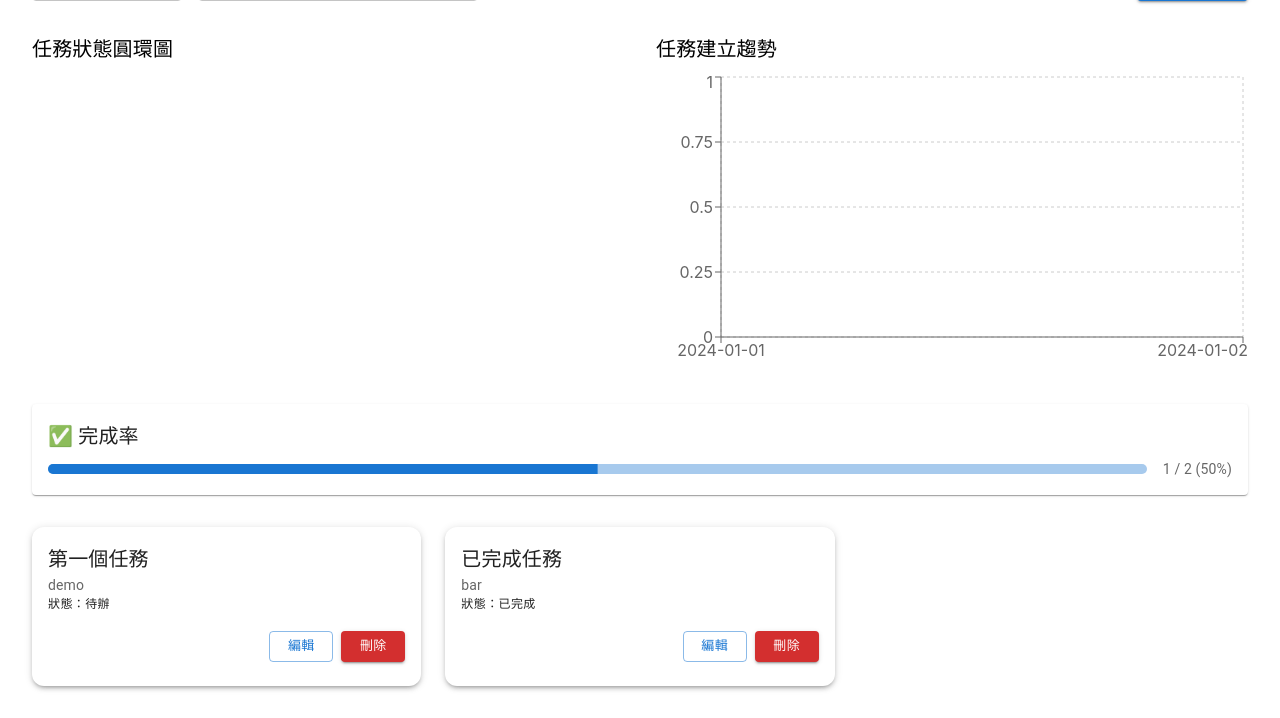
it: 刪除任務成功：卡片移除＋success toast
The image size is (1280, 718).
(page scrolled)
Expected: the heading "第一個任務" is shown, [48,547,149,571]
Click the button "刪除" below "待辦" at (373,646), box [341,631,405,662]
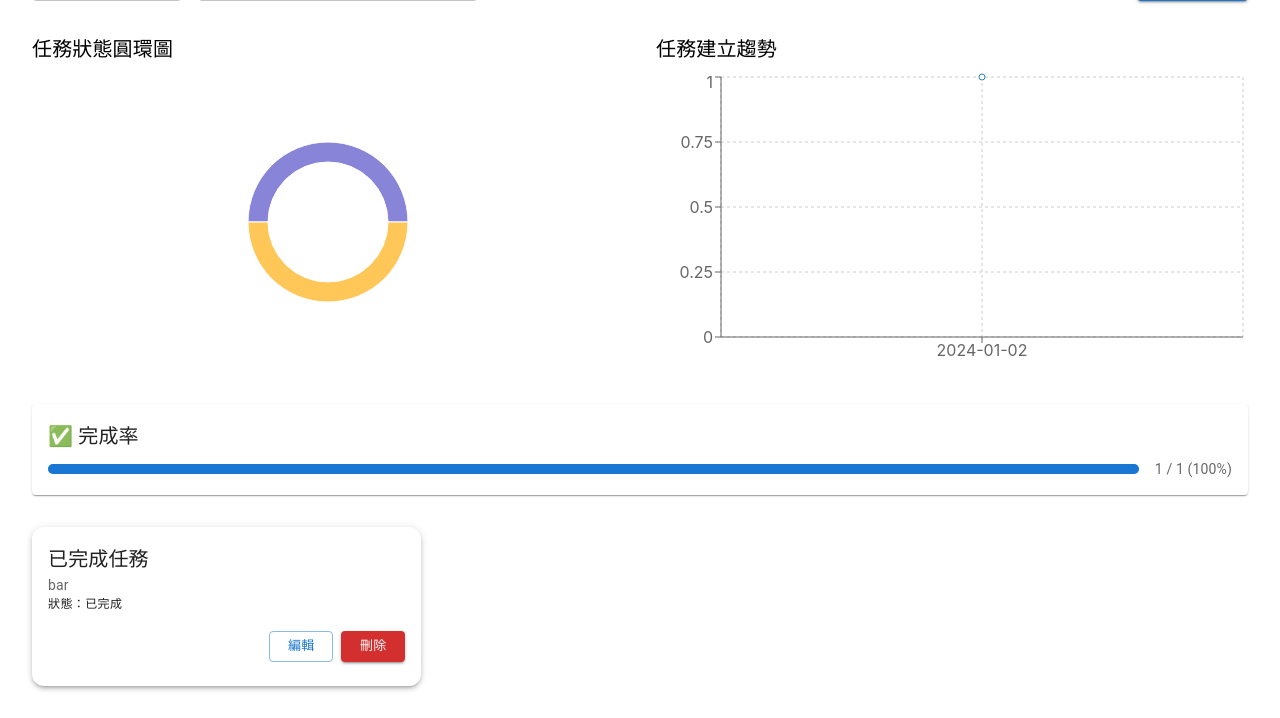
Result: the heading "第一個任務" is gone
